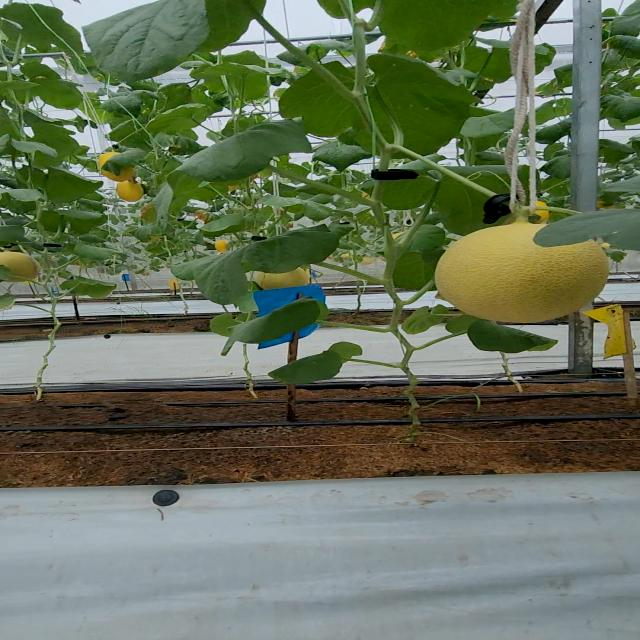Front-melon: (435, 226, 606, 322)
Rear-melon: (1, 253, 39, 281), (113, 182, 152, 202)
